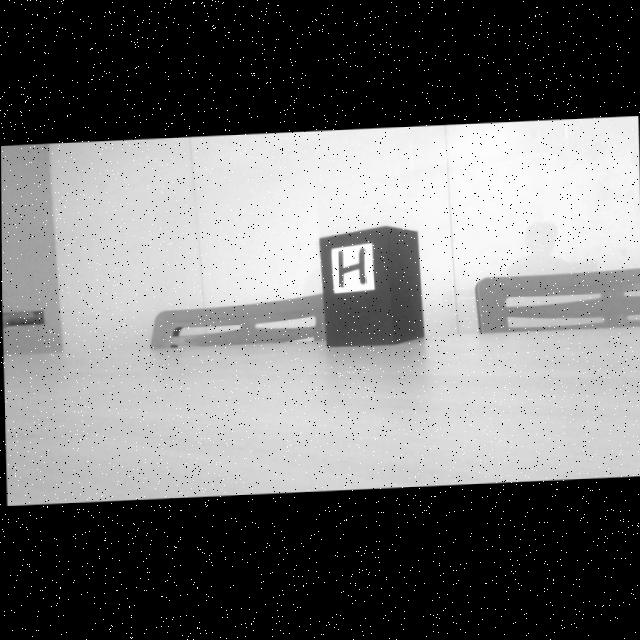H: (338, 250, 365, 288)
